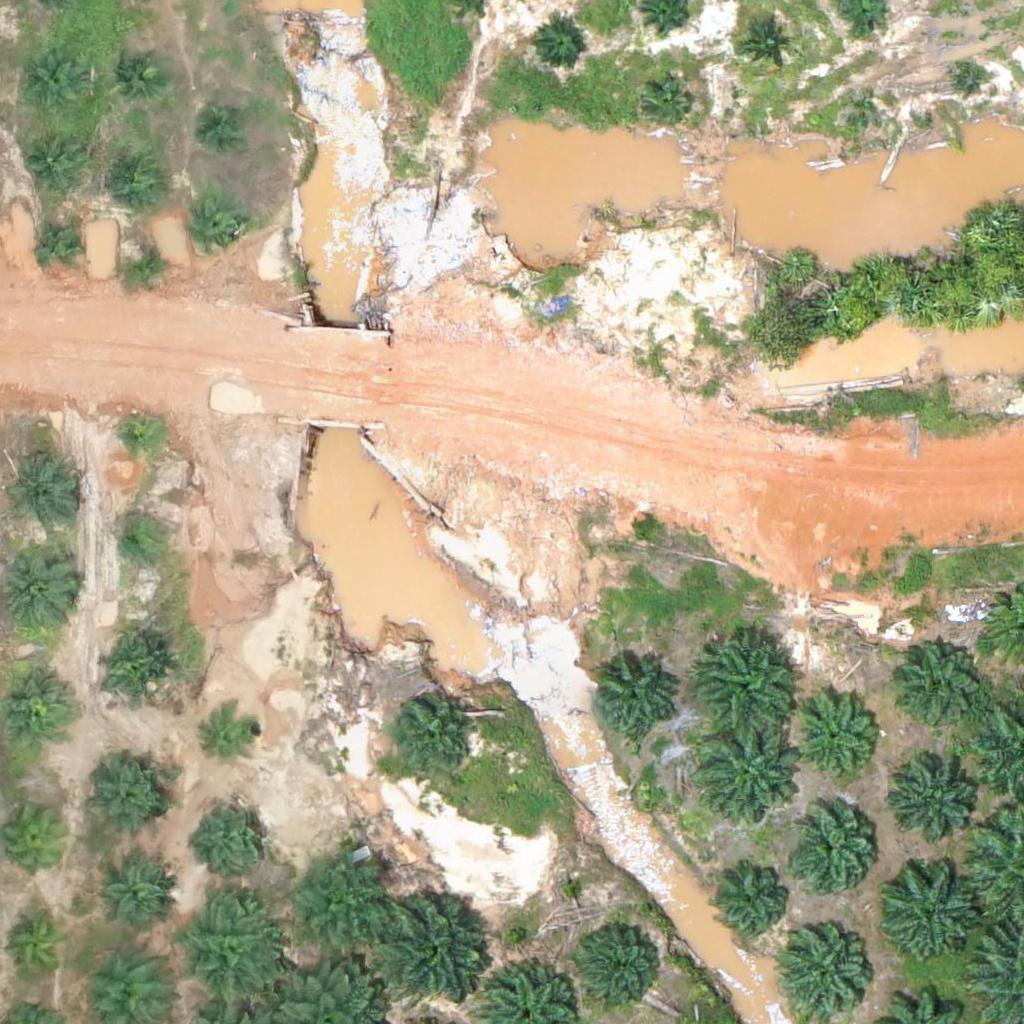Kelapa_Sawit: (370, 882, 495, 1008), (284, 845, 396, 959), (174, 897, 286, 1010), (699, 724, 799, 825), (695, 631, 795, 732), (877, 862, 977, 962), (87, 758, 175, 846), (898, 641, 986, 729), (791, 696, 879, 784), (788, 809, 876, 897), (780, 932, 868, 1020), (590, 656, 678, 744), (91, 855, 178, 943), (389, 697, 476, 785), (708, 856, 795, 944), (892, 760, 979, 848), (577, 921, 664, 1009), (4, 452, 79, 528), (95, 633, 170, 709), (197, 796, 272, 872), (4, 549, 79, 625), (2, 800, 77, 875), (21, 52, 84, 115), (108, 148, 171, 211), (22, 133, 85, 196), (108, 43, 170, 106), (202, 705, 264, 768), (35, 218, 85, 269), (121, 239, 171, 290), (742, 21, 792, 72), (533, 22, 583, 72), (192, 205, 242, 255), (202, 100, 252, 150), (114, 413, 164, 463), (110, 520, 160, 570), (644, 83, 694, 133), (956, 64, 981, 89), (861, 98, 886, 123)
